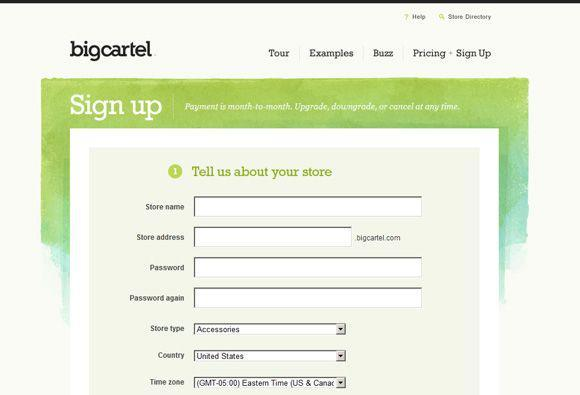dropdown: (195, 351, 347, 364), (195, 377, 347, 390), (196, 324, 347, 336)
input: (195, 289, 424, 311), (195, 258, 422, 280), (195, 197, 423, 218), (195, 228, 353, 249)
label: (412, 48, 495, 62), (146, 261, 190, 278), (126, 292, 188, 304), (136, 231, 188, 245), (148, 322, 190, 338), (148, 376, 188, 391), (309, 49, 357, 61), (140, 203, 190, 213), (156, 349, 189, 362), (268, 47, 292, 60), (373, 48, 398, 60)
